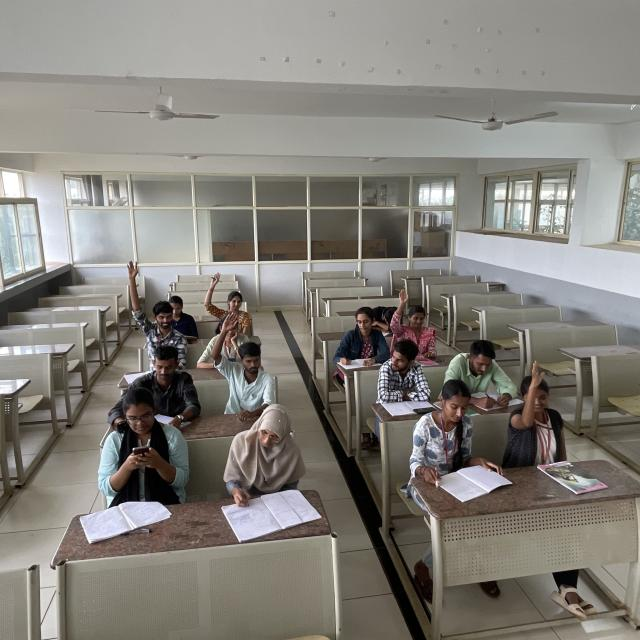Hand Rising: (208, 312, 281, 414), (121, 259, 185, 354), (202, 270, 252, 328), (391, 288, 437, 349)
Reading: (405, 376, 499, 497), (506, 360, 573, 472)
Sleeping: (372, 302, 409, 330)
Using Phone: (90, 385, 193, 510)
Writing: (224, 393, 323, 546), (116, 346, 193, 422), (454, 336, 520, 409), (334, 306, 387, 372)
